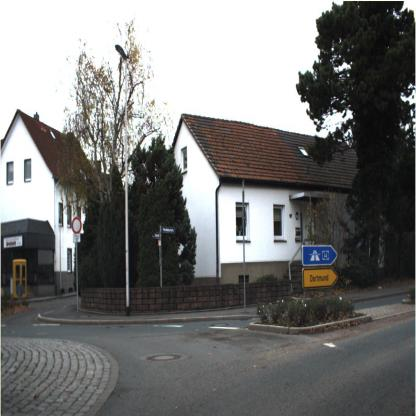prohibitory: (69, 214, 84, 236)
